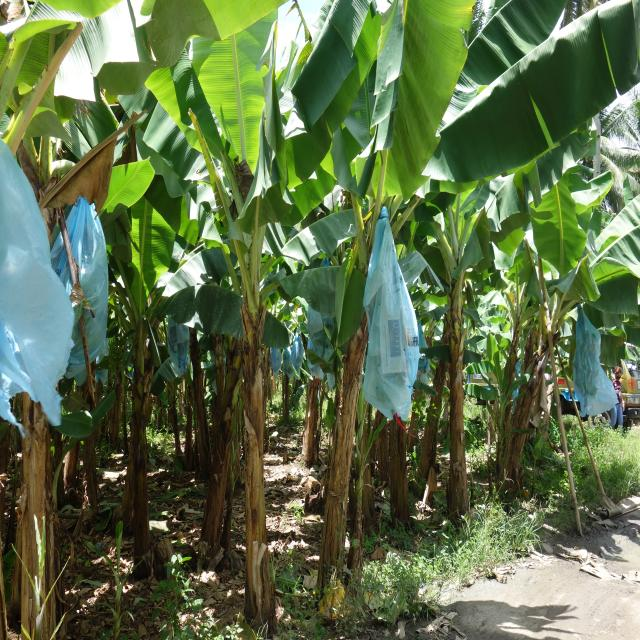Banana-plant: (304, 181, 397, 620), (8, 150, 71, 640), (230, 127, 280, 638), (189, 302, 253, 557), (503, 256, 564, 519), (119, 262, 161, 590), (430, 202, 470, 539)
